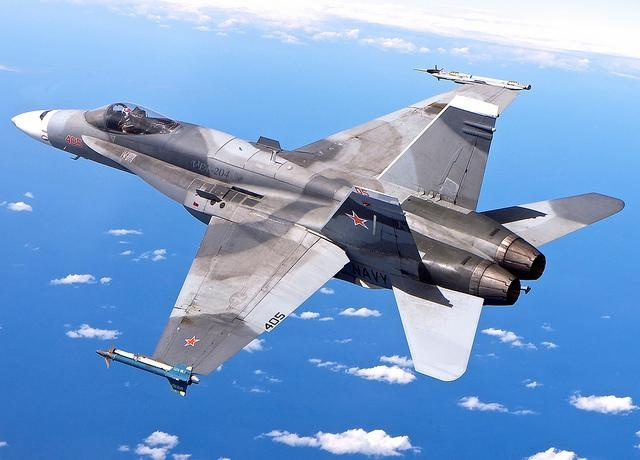airplane: (11, 61, 627, 409)
